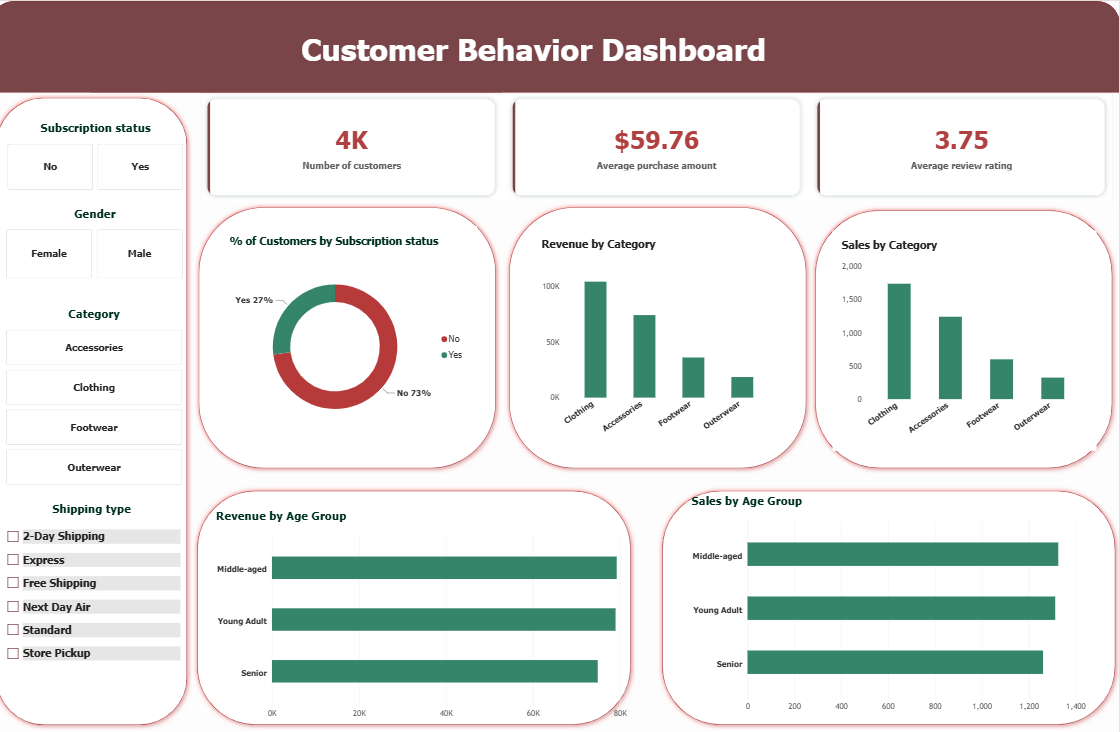

What the dashboard file says about the page in this screenshot:
{"tool":"powerbi","page":{"name":"Page 1","canvas":[1980,1500],"ordinal":0},"visuals":[{"type":"cardVisual","fields":{"Data":["customer_behavior.Number of customers","customer_behavior.Avg purchase amount","customer_behavior.Avg review rating"]},"box":[369.6,160.7,1600,192.9],"z":0},{"type":"shape","box":[0,0,1980.4,160.9],"z":1000},{"type":"textbox","box":[0,51.4,1920,160],"z":2000},{"type":"shape","box":[900,352.6,539.5,476.3],"z":3000},{"type":"clusteredColumnChart","title":"Revenue by Category","fields":{"Category":["customer_behavior.category"],"Y":["Sum(customer_behavior.purchase_amount)"]},"box":[950,400,442.1,386.8],"z":4000},{"type":"shape","box":[355.3,352.6,539.5,476.3],"z":5000},{"type":"shape","box":[1436.8,357.9,539.5,471.1],"z":6000},{"type":"donutChart","title":"% of Customers by Subscription status","fields":{"Category":["customer_behavior.Subscription status"],"Y":["CountNonNull(customer_behavior.customer_id)"]},"box":[402.6,394.7,450,386.8],"z":7000},{"type":"clusteredColumnChart","title":"Sales by Category","fields":{"Category":["customer_behavior.category"],"Y":["CountNonNull(customer_behavior.customer_id)"]},"box":[1476.3,402.6,463.2,386.8],"z":8000},{"type":"shape","box":[0,159.4,353.1,1118.8],"z":9000},{"type":"advancedSlicerVisual","fields":{"Values":["customer_behavior.Subscription status"]},"box":[28.1,209.4,309.4,121.9],"z":10000},{"type":"advancedSlicerVisual","title":"Gender","fields":{"Values":["customer_behavior.gender"]},"box":[25,359.4,311.8,126.5],"z":11000},{"type":"advancedSlicerVisual","title":"Category","fields":{"Values":["customer_behavior.category"]},"box":[25,537.5,309.4,312.5],"z":12000},{"type":"slicer","title":"Shipping type","fields":{"Values":["customer_behavior.shipping_type"]},"box":[21.1,878.9,311.1,355.6],"z":13000},{"type":"shape","box":[352.6,850,778.9,428.9],"z":14000},{"type":"clusteredBarChart","title":"Revenue by Age Group","fields":{"Category":["customer_behavior.age_group"],"Y":["Sum(customer_behavior.purchase_amount)"]},"box":[378.9,876.3,752.6,402.6],"z":15000},{"type":"shape","box":[1168.4,850,813.2,428.9],"z":15001},{"type":"clusteredBarChart","title":"Sales by Age Group","fields":{"Category":["customer_behavior.age_group"],"Y":["CountNonNull(customer_behavior.customer_id)"]},"box":[1213.2,850,723.7,415.8],"z":15002}]}

Visuals, with their boxes on the page's 1980x1500 design canvas (x1, y1, x2, y2). These are canvas units, not pixel positions in the 1120x732 screenshot, which may show the page scaled, cropped or inside an application window:
cardVisual - customer_behavior.Number of customers x customer_behavior.Avg purchase amount: 370/161/1970/354
shape: 0/0/1980/161
textbox: 0/51/1920/211
shape: 900/353/1440/829
"Revenue by Category" clusteredColumnChart: 950/400/1392/787
shape: 355/353/895/829
shape: 1437/358/1976/829
"% of Customers by Subscription status" donutChart: 403/395/853/782
"Sales by Category" clusteredColumnChart: 1476/403/1940/789
shape: 0/159/353/1278
advancedSlicerVisual - customer_behavior.Subscription status: 28/209/338/331
"Gender" advancedSlicerVisual: 25/359/337/486
"Category" advancedSlicerVisual: 25/538/334/850
"Shipping type" slicer: 21/879/332/1234
shape: 353/850/1132/1279
"Revenue by Age Group" clusteredBarChart: 379/876/1132/1279
shape: 1168/850/1982/1279
"Sales by Age Group" clusteredBarChart: 1213/850/1937/1266
